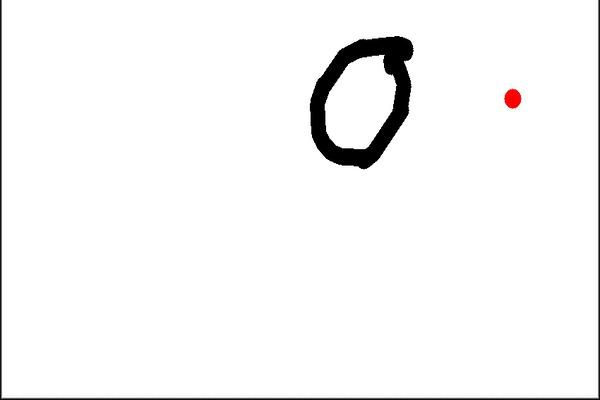O: (292, 22, 421, 173)
